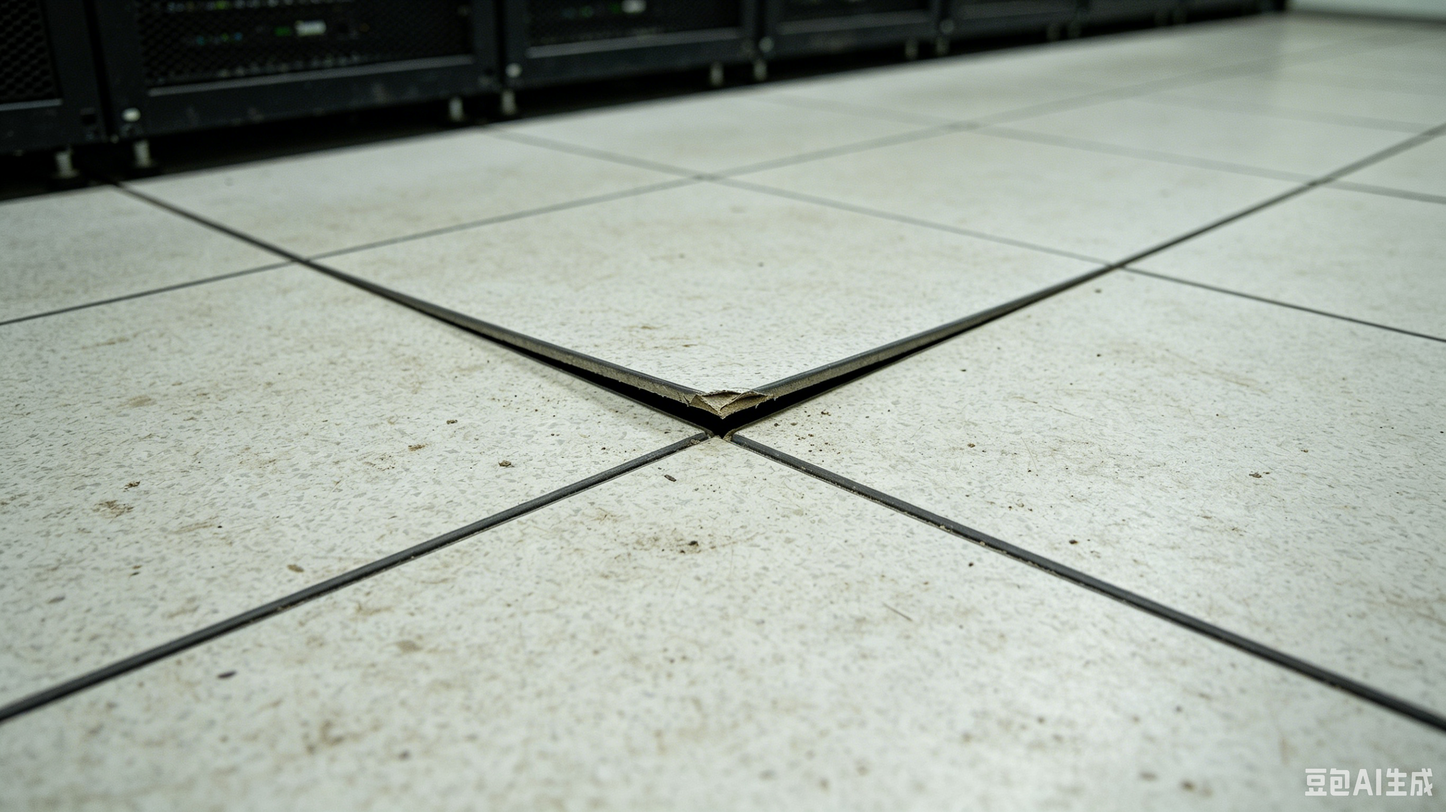floor_defect: (427, 290, 1040, 469)
